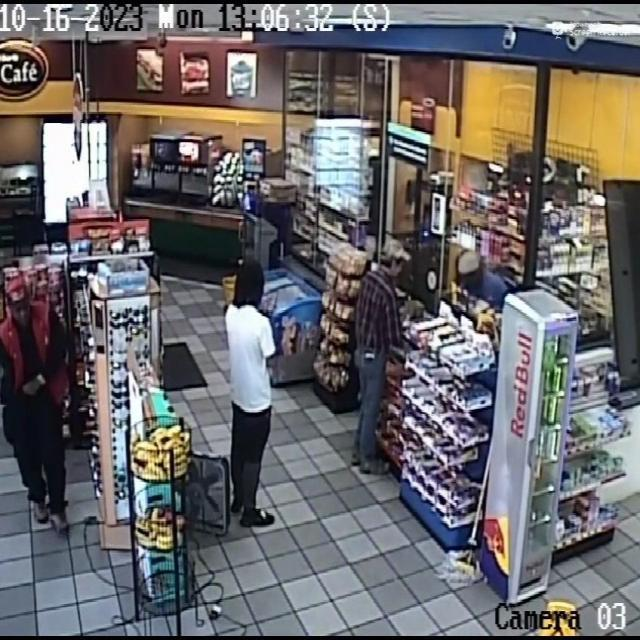Shoplifting: (0, 261, 78, 529)
normal: (210, 247, 287, 536), (344, 217, 419, 480)
